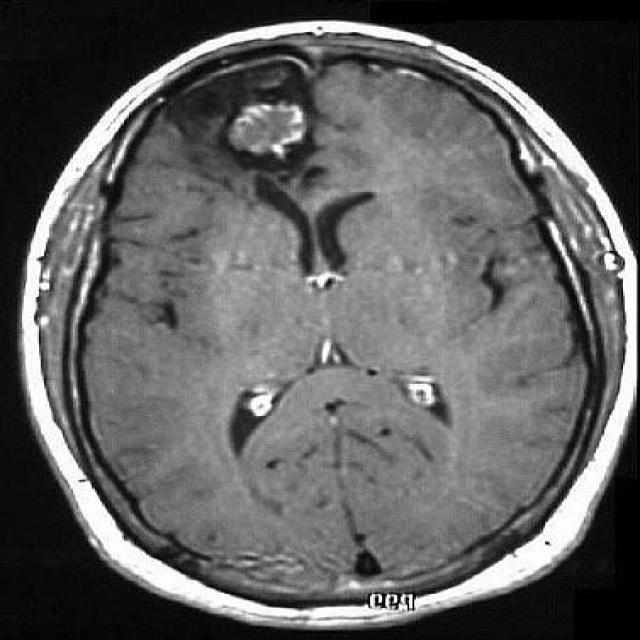Tumor-Cell: (185, 72, 345, 178)
